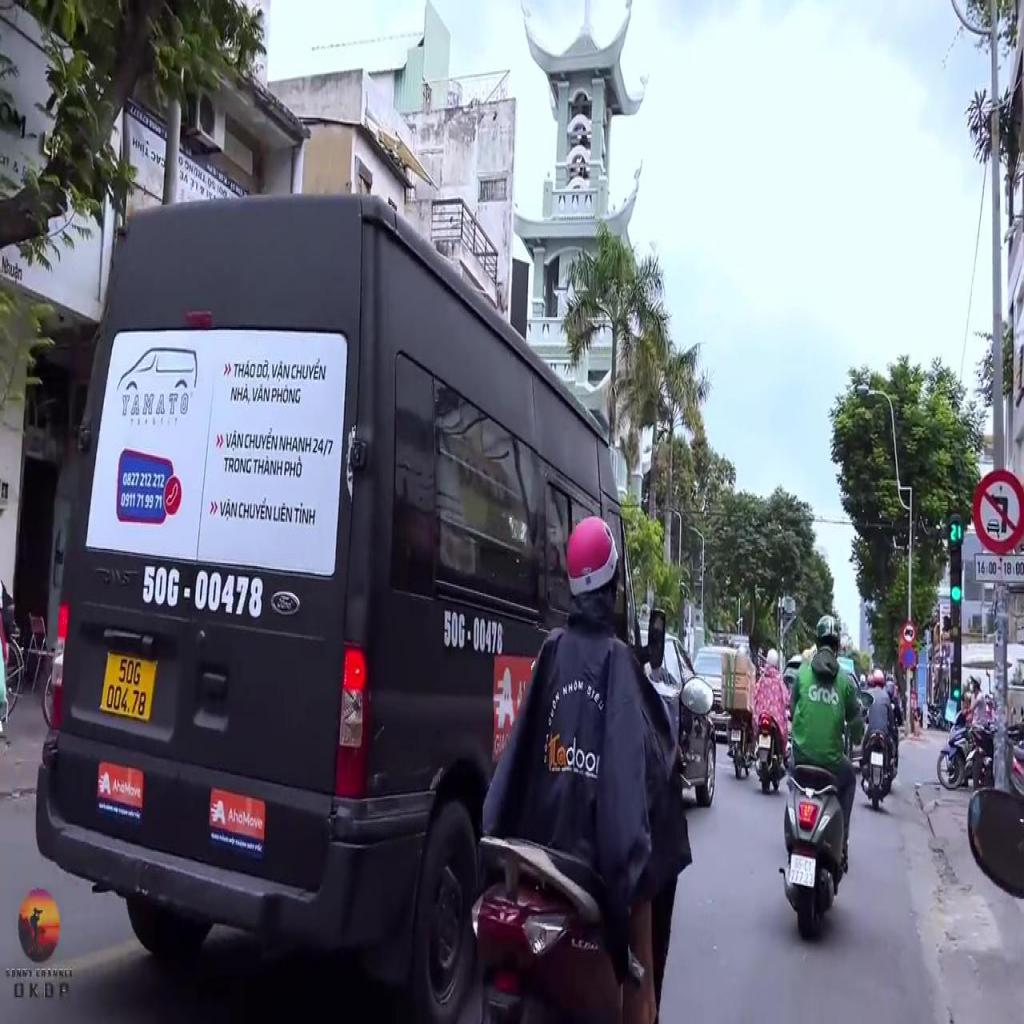cam_o_to_re_trai: (970, 464, 1022, 553)
khac: (976, 553, 1022, 585)
